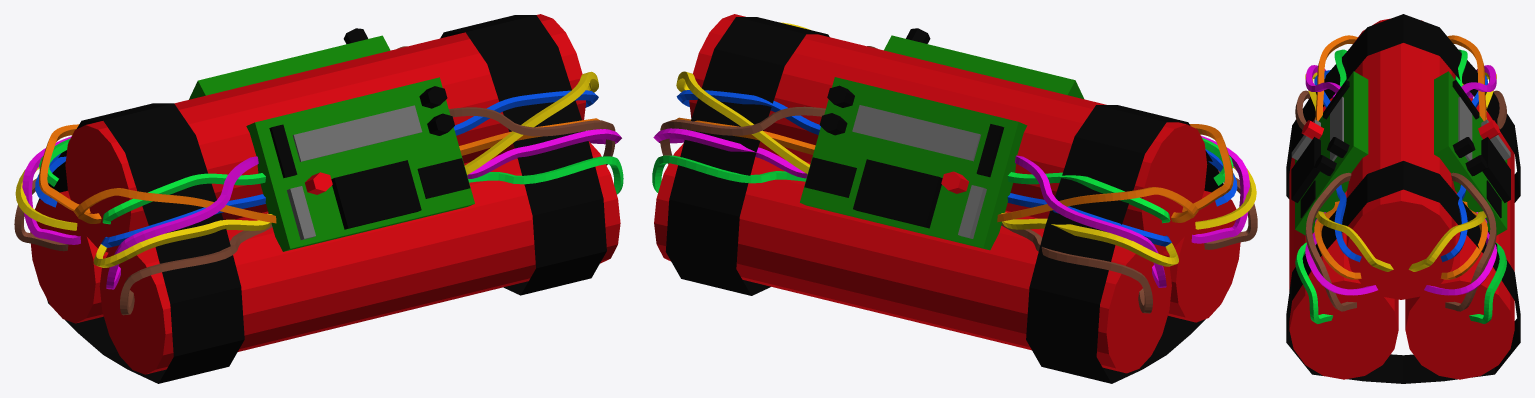
File: TNT Bomb (losse parts).fbx
3 renders of one model, left to right at view 1: azimuth 30°, elevation 25°; view 2: azimuth 150°, elevation 25°; view 3: azimuth 270°, elevation 25°, orthographic. The views are drawn at different scales.
Parts seen in each view (by area): view 1: Cylinder, Cylinder.003, Plane, Cylinder.002, BézierCurve, Cylinder.001; view 2: Cylinder.001, Cylinder.003, Plane, Cylinder.002, BézierCurve, Cylinder; view 3: Cylinder.002, Plane, BézierCurve, Cylinder.003, Cylinder.001, Cylinder.
Boxes of the visible parts, x1,y1,x2,y2 form: Cylinder: (99, 141, 620, 374); Cylinder.003: (36, 15, 606, 383); Plane: (189, 28, 474, 251); Cylinder.002: (65, 14, 585, 252); BézierCurve: (14, 46, 623, 315); Cylinder.001: (30, 190, 108, 323); Cylinder.001: (654, 143, 1171, 373); Cylinder.003: (665, 17, 1223, 383); Plane: (800, 28, 1083, 250); Cylinder.002: (689, 14, 1207, 251); BézierCurve: (652, 22, 1257, 313); Cylinder: (1163, 190, 1240, 322); Cylinder.002: (1346, 18, 1455, 299); Plane: (1291, 71, 1510, 235); BézierCurve: (1295, 35, 1506, 323); Cylinder.003: (1286, 14, 1520, 383); Cylinder.001: (1405, 98, 1514, 379); Cylinder: (1289, 98, 1398, 379).
Bounding box in the file's own units: 54.5 × 23.37 × 25.51.
